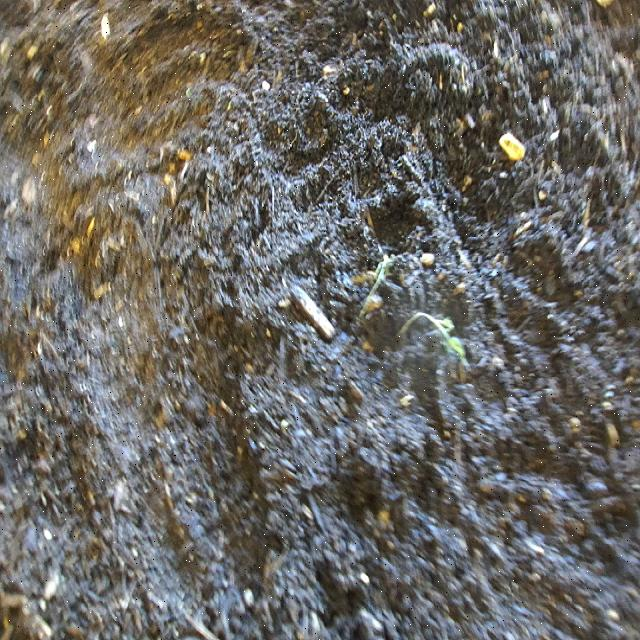Unhealthy: (393, 305, 477, 379), (355, 241, 400, 326)
